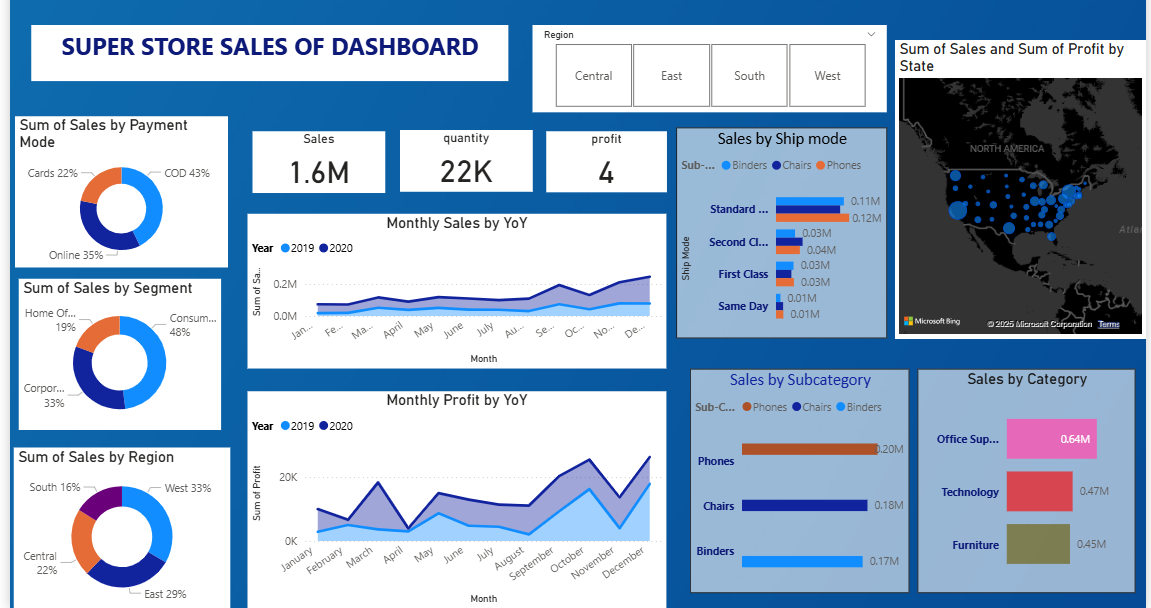

The dashboard page shown, as its layout file describes it:
{"tool":"powerbi","page":{"name":"Page 1","canvas":[1280,720],"ordinal":0},"visuals":[{"type":"clusteredBarChart","title":"Sales by Subcategory","fields":{"Category":["SuperStore_Sales_Dataset.Sub-Category"],"Y":["Sum(SuperStore_Sales_Dataset.Sales)"],"Series":["SuperStore_Sales_Dataset.Sub-Category"]},"box":[765.7,448.7,247,252.5],"z":0},{"type":"clusteredBarChart","title":"Sales by Category","fields":{"Category":["SuperStore_Sales_Dataset.Category"],"Y":["Sum(SuperStore_Sales_Dataset.Sales)"]},"box":[1022.3,448.7,245.6,252.5],"z":1000},{"type":"clusteredBarChart","title":"Sales by Ship mode","fields":{"Category":["SuperStore_Sales_Dataset.Ship Mode"],"Y":["Sum(SuperStore_Sales_Dataset.Sales)"],"Series":["SuperStore_Sales_Dataset.Sub-Category"]},"box":[750.6,177,237.4,237.4],"z":2000},{"type":"stackedAreaChart","title":"  Monthly Sales by YoY ","fields":{"Category":["SuperStore_Sales_Dataset.Order Date.Variation.Date Hierarchy.Month","SuperStore_Sales_Dataset.Order Date.Variation.Date Hierarchy.Day"],"Y":["Sum(SuperStore_Sales_Dataset.Sales)"],"Series":["SuperStore_Sales_Dataset.Order Date.Variation.Date Hierarchy.Year"]},"box":[267.6,274.4,472,174.3],"z":3000},{"type":"stackedAreaChart","title":"  Monthly Profit by YoY ","fields":{"Category":["SuperStore_Sales_Dataset.Order Date.Variation.Date Hierarchy.Month","SuperStore_Sales_Dataset.Order Date.Variation.Date Hierarchy.Day"],"Series":["SuperStore_Sales_Dataset.Order Date.Variation.Date Hierarchy.Year"],"Y":["Sum(SuperStore_Sales_Dataset.Profit)"]},"box":[267.6,474.8,472,245.6],"z":4000},{"type":"map","fields":{"Category":["SuperStore_Sales_Dataset.State"],"Size":["Sum(SuperStore_Sales_Dataset.Sales)"]},"box":[997.6,78.2,282.7,336.2],"z":5000},{"type":"donutChart","fields":{"Category":["SuperStore_Sales_Dataset.Segment"],"Y":["Sum(SuperStore_Sales_Dataset.Sales)"]},"box":[9.6,348.5,227.8,170.2],"z":6000},{"type":"donutChart","fields":{"Category":["SuperStore_Sales_Dataset.Payment Mode"],"Y":["Sum(SuperStore_Sales_Dataset.Sales)"]},"box":[5.5,164.7,240.1,170.2],"z":7000},{"type":"slicer","fields":{"Values":["SuperStore_Sales_Dataset.Region"]},"box":[588.7,61.7,399.3,98.8],"z":8000},{"type":"textbox","box":[23.3,61.7,537.9,63.1],"z":9000},{"type":"card","title":"Sales","fields":{"Values":["Sum(SuperStore_Sales_Dataset.Sales)"]},"box":[273.1,181.1,149.6,70],"z":10000},{"type":"card","title":"quantity","fields":{"Values":["Sum(SuperStore_Sales_Dataset.Quantity)"]},"box":[439.1,179.8,149.6,70],"z":11000},{"type":"card","title":"profit","fields":{"Values":["Avg(SuperStore_Sales_Dataset.AvgDelivery)"]},"box":[603.8,181.1,135.8,68.6],"z":12000},{"type":"donutChart","fields":{"Category":["SuperStore_Sales_Dataset.Region"],"Y":["Sum(SuperStore_Sales_Dataset.Sales)"]},"box":[4.1,537.9,244.3,182.5],"z":12001}]}

Visuals, with their boxes in screenshot pixels (x1, y1, x2, y2):
"Sales by Subcategory" clusteredBarChart: [left=689, top=369, right=910, bottom=595]
"Sales by Category" clusteredBarChart: [left=919, top=369, right=1139, bottom=595]
"Sales by Ship mode" clusteredBarChart: [left=675, top=126, right=888, bottom=338]
"  Monthly Sales by YoY " stackedAreaChart: [left=243, top=213, right=666, bottom=369]
"  Monthly Profit by YoY " stackedAreaChart: [left=243, top=392, right=666, bottom=607]
map - SuperStore_Sales_Dataset.State x Sum(SuperStore_Sales_Dataset.Sales): [left=897, top=37, right=1150, bottom=338]
donutChart - SuperStore_Sales_Dataset.Segment x Sum(SuperStore_Sales_Dataset.Sales): [left=12, top=279, right=216, bottom=432]
donutChart - SuperStore_Sales_Dataset.Payment Mode x Sum(SuperStore_Sales_Dataset.Sales): [left=8, top=115, right=223, bottom=267]
slicer - SuperStore_Sales_Dataset.Region: [left=530, top=22, right=888, bottom=111]
textbox: [left=24, top=22, right=506, bottom=79]
"Sales" card: [left=248, top=129, right=382, bottom=192]
"quantity" card: [left=396, top=128, right=530, bottom=191]
"profit" card: [left=544, top=129, right=666, bottom=191]
donutChart - SuperStore_Sales_Dataset.Region x Sum(SuperStore_Sales_Dataset.Sales): [left=7, top=449, right=226, bottom=607]
